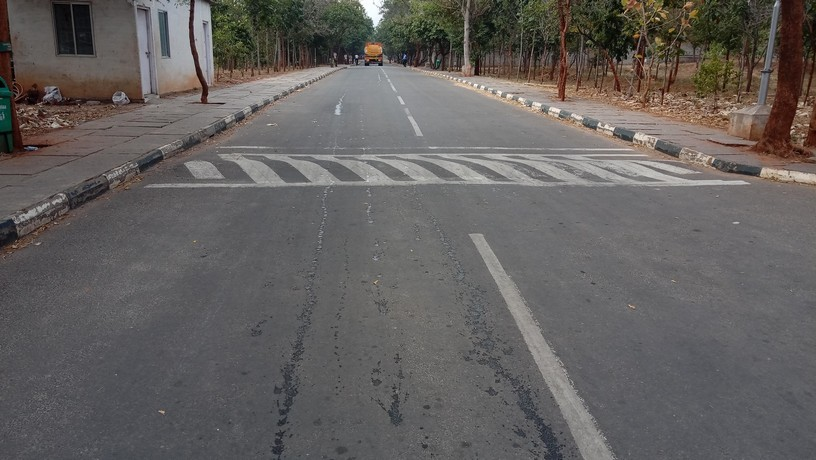bump: (138, 145, 749, 186)
